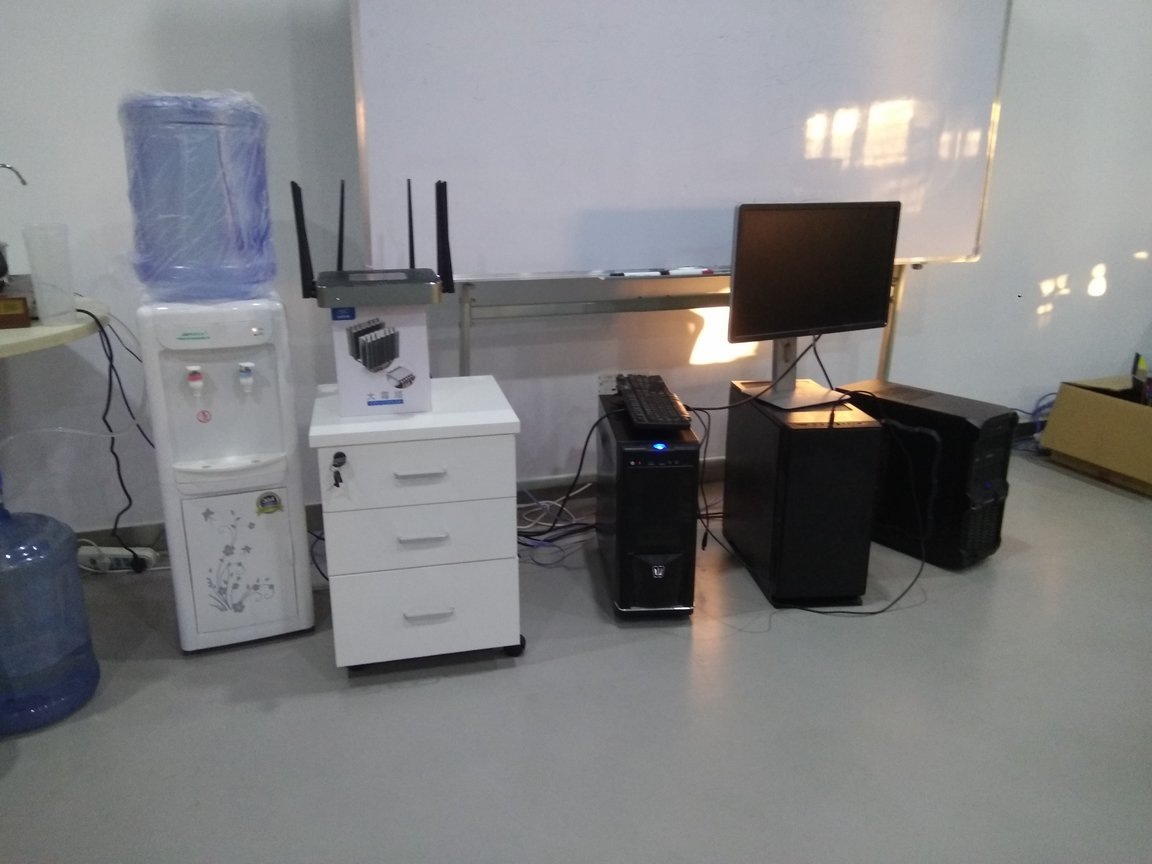computer: (726, 372, 880, 620), (843, 375, 1024, 585), (594, 386, 711, 643)
drawer chest: (312, 367, 534, 669)
monitor: (730, 195, 903, 413)
scuttlebutt: (116, 87, 288, 298), (1, 506, 103, 735)
water dispenser: (141, 293, 316, 655)
